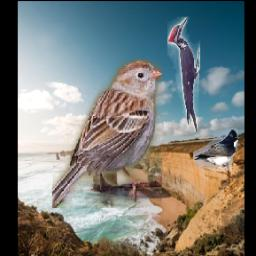Sparrow: (52, 60, 162, 208)
Swallow: (194, 130, 239, 172)
Woodpecker: (168, 17, 201, 132)
